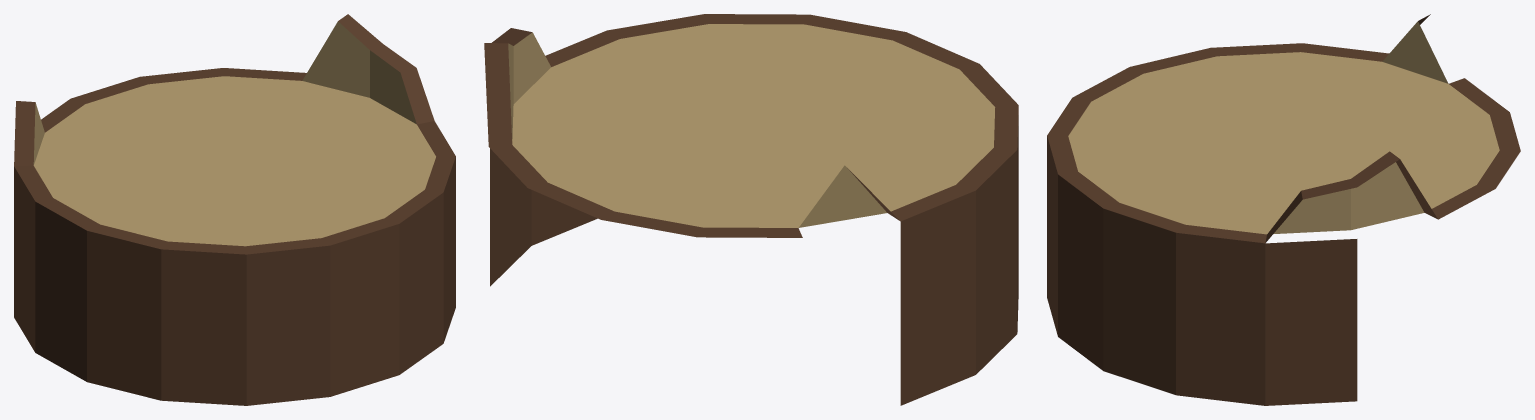
Rendered from WoodBASE.fbx.
3 renders of one model, left to right at view 1: azimuth 30°, elevation 25°; view 2: azimuth 150°, elevation 25°; view 3: azimuth 270°, elevation 25°, orthographic. The views are drawn at different scales.
Visible parts, largest first — view 1: Cylinder; view 2: Cylinder; view 3: Cylinder.
Part boxes in pixels (left/top/right/bottom): Cylinder: left=14, top=14, right=455, bottom=405; Cylinder: left=484, top=14, right=1018, bottom=405; Cylinder: left=1047, top=14, right=1520, bottom=405.
Bounding box in the file's own units: 199 × 109 × 199.
